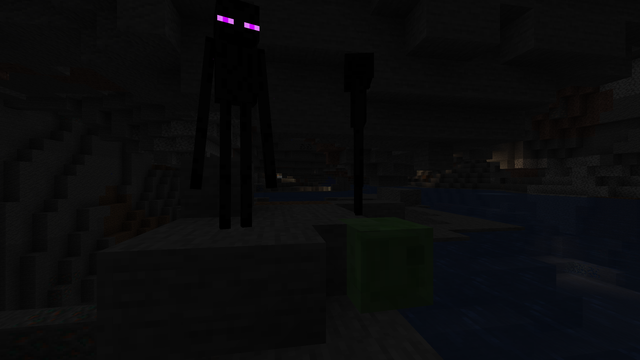endermens: (205, 0, 260, 232), (338, 45, 380, 212)
slimes: (336, 214, 434, 313)
